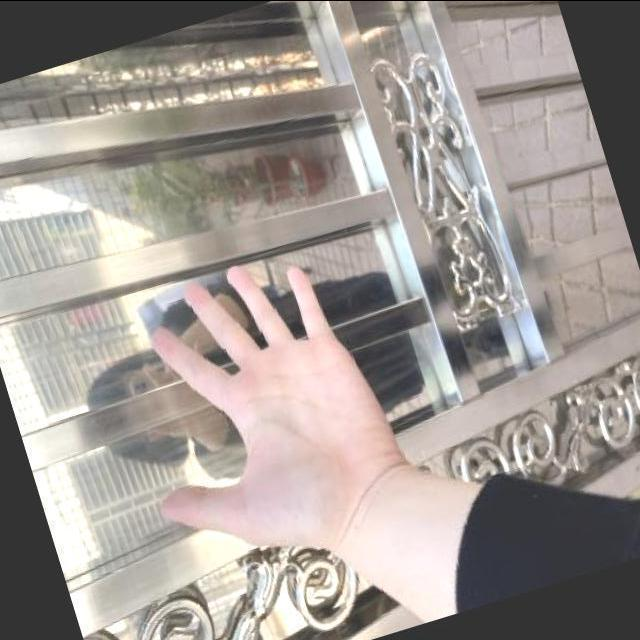hand: (86, 227, 426, 602)
